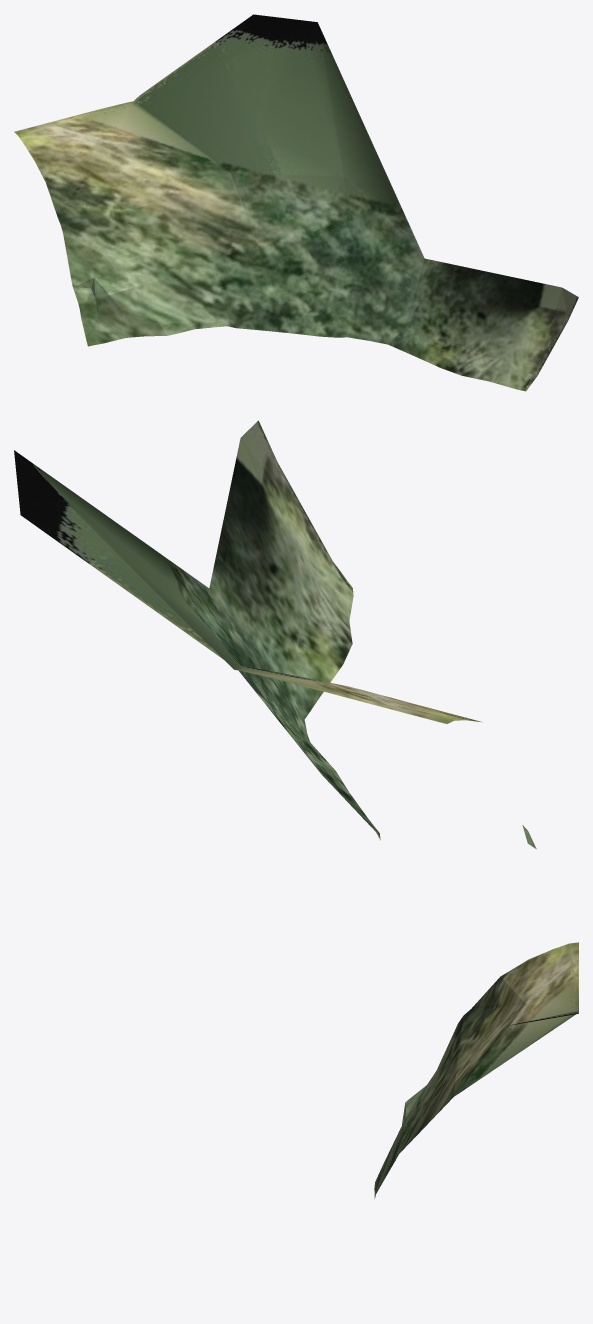
3 renders of one model, top to bottom at view 1: azimuth 30°, elevation 25°; view 2: azimuth 150°, elevation 25°; view 3: azimuth 270°, elevation 25°, orthographic. The views are drawn at different scales.
Size of the model in its own units: 9.95 by 6.4 by 11.8.
1 material, 1 textured.
